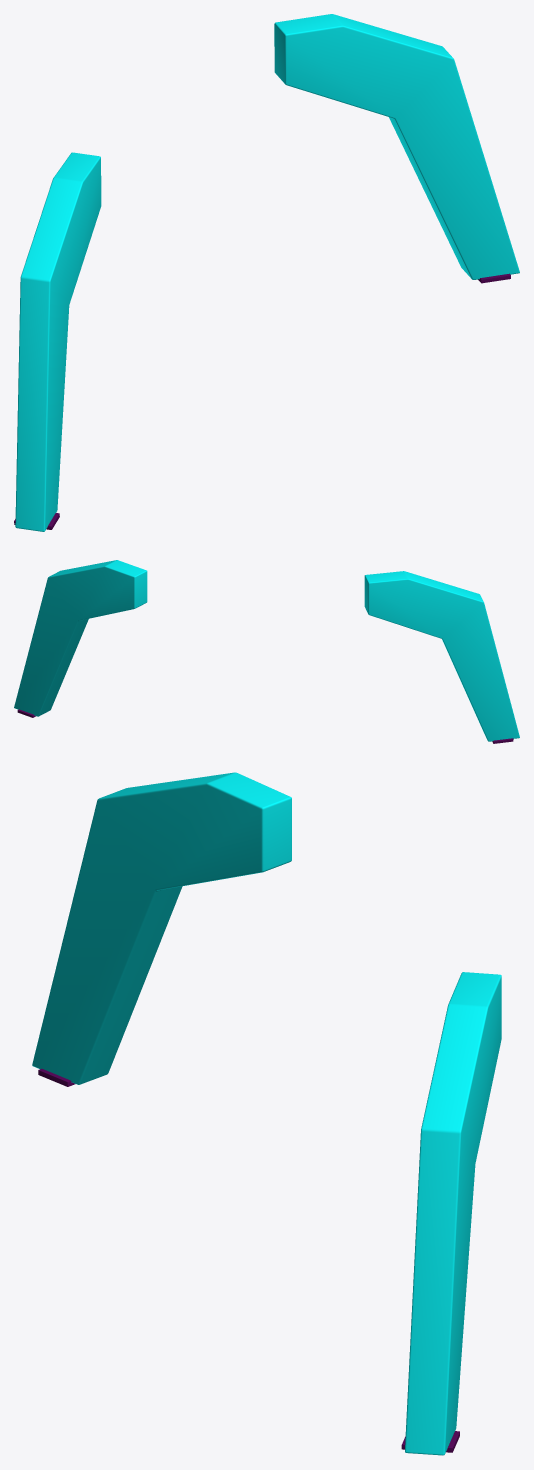
Rendered from levante_leg_corner_right.gltf.
3 views of the same model, one above another, from view 1: azimuth 30°, elevation 25°; view 2: azimuth 150°, elevation 25°; view 3: azimuth 270°, elevation 25° (orthographic). The views are drawn at different scales.
Parts seen in each view (by area): view 1: leg_corner_right; view 2: leg_corner_right; view 3: leg_corner_right.
Boxes of the visible parts, x1=… form: leg_corner_right: x1=14, y1=14, x2=519, y2=531; leg_corner_right: x1=14, y1=560, x2=519, y2=743; leg_corner_right: x1=32, y1=772, x2=501, y2=1455.
Size of the model in its own units: 0.5756 by 0.2361 by 0.2853.
